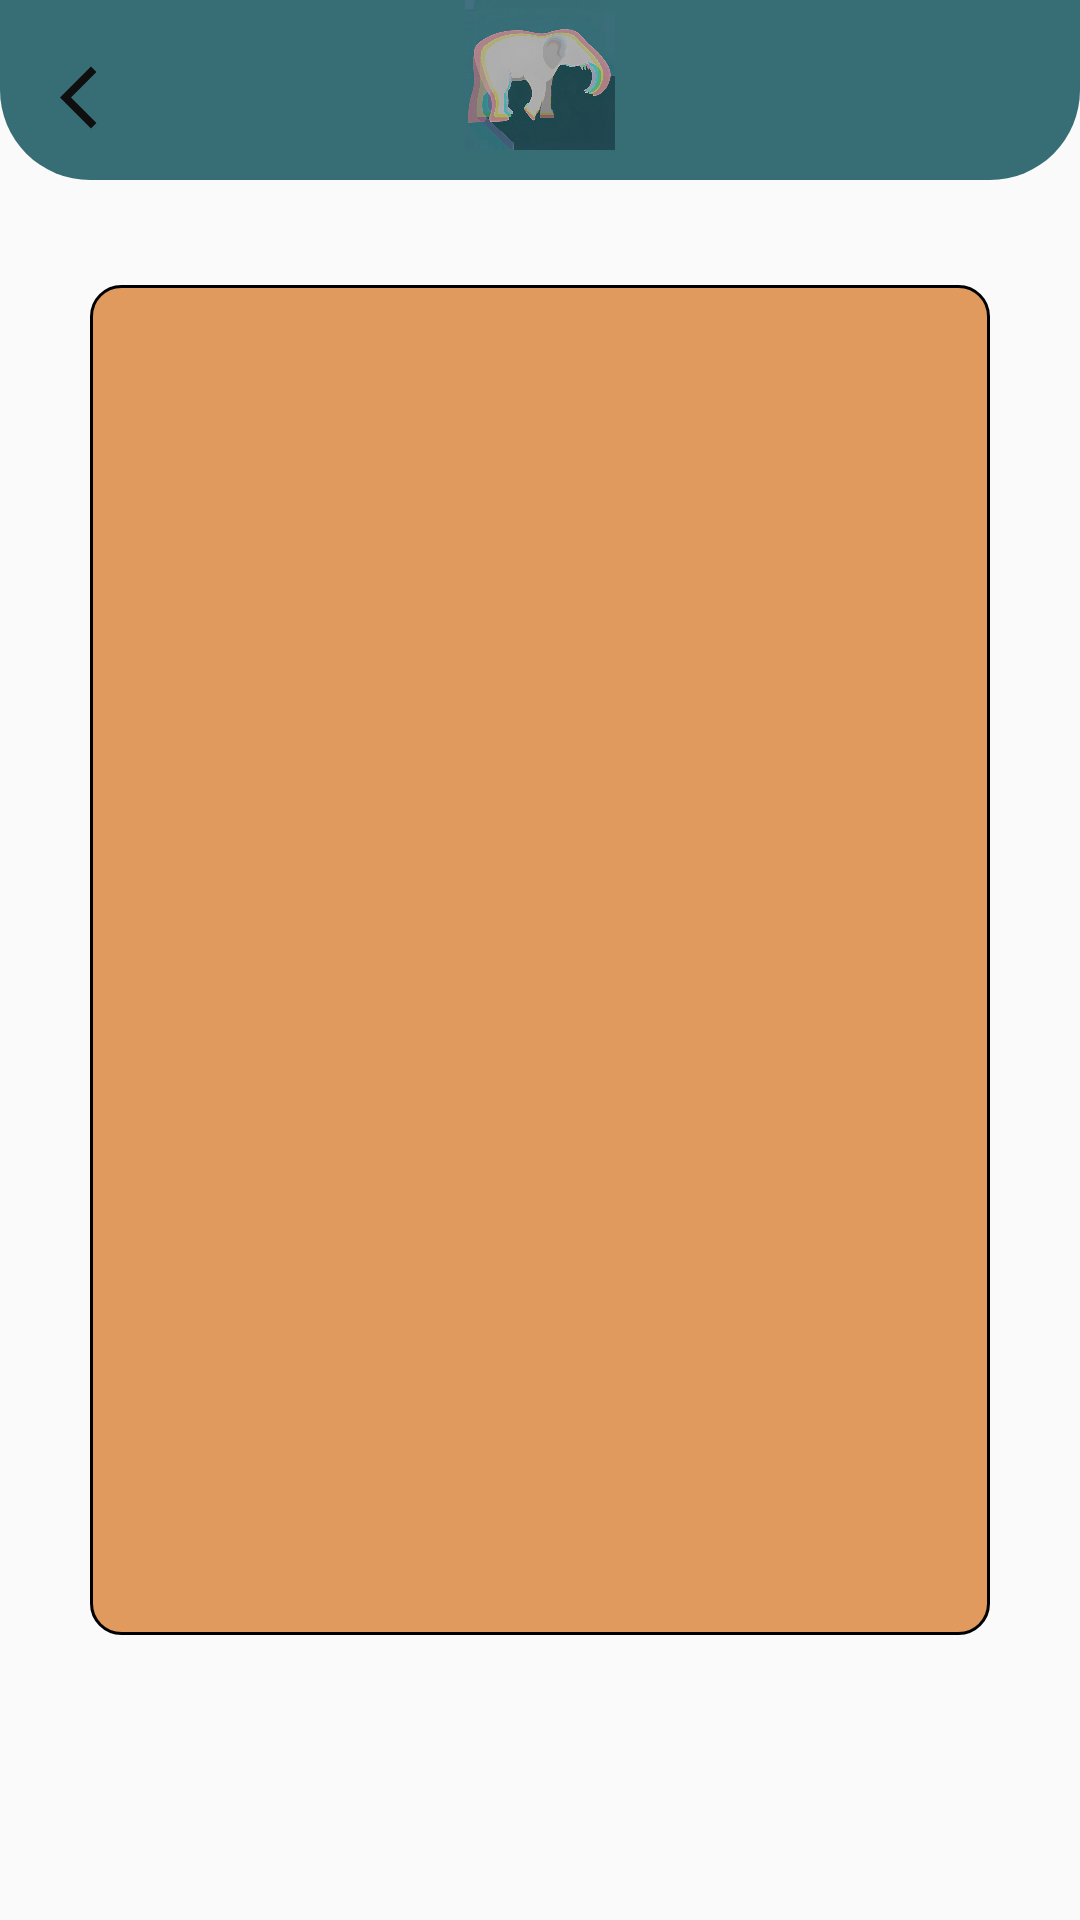

Icons on this 1080px x 1920px Android screen, each with the point to tap as (x=x, y=y):
back: (x=78, y=97)
